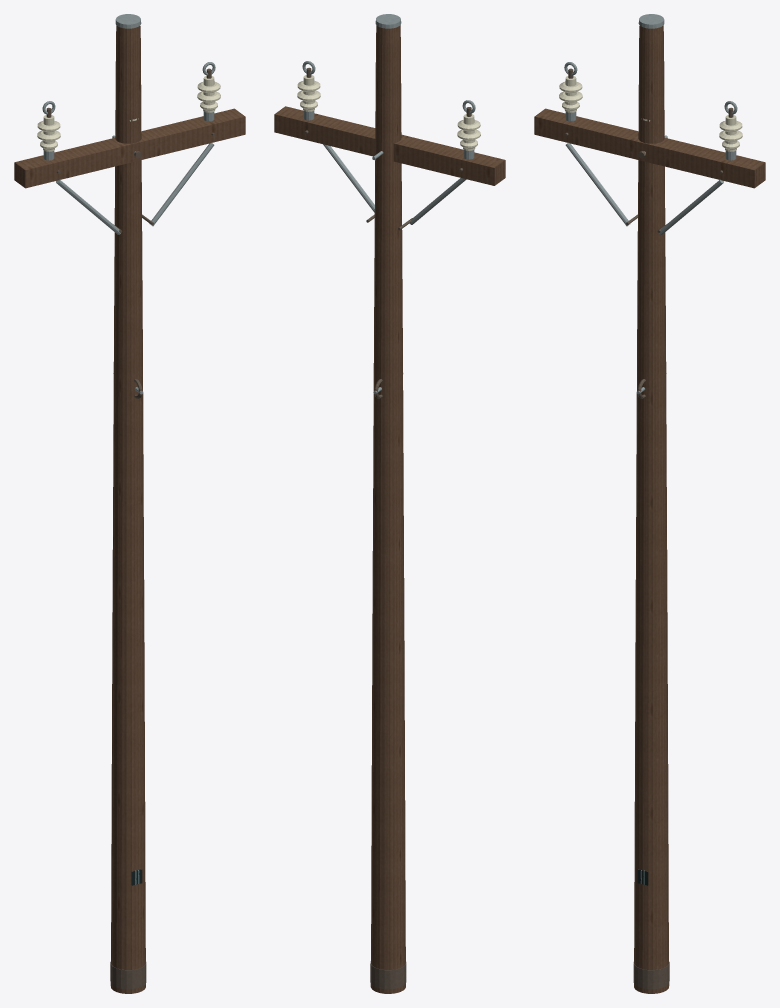
Rendered from PZ_Rural_Wooden_Utility_Pole_10m.glb.
3 views of the same model, side by side, from view 1: azimuth 30°, elevation 25°; view 2: azimuth 150°, elevation 25°; view 3: azimuth 330°, elevation 25° (orthographic).
Parts seen in each view (by area): view 1: RENDER__Round_Timber_Pole_Weathered, RENDER__Treated_Wooden_Crossarm_2m4, RENDER__Crossarm_Diagonal_Steel_Struts, RENDER__Groundline_Steel_Band, RENDER__Insulator_-0.88_CeramicStack, RENDER__Insulator_+0.88_CeramicStack; view 2: RENDER__Round_Timber_Pole_Weathered, RENDER__Treated_Wooden_Crossarm_2m4, RENDER__Crossarm_Diagonal_Steel_Struts, RENDER__Groundline_Steel_Band, RENDER__Insulator_+0.88_CeramicStack, RENDER__Insulator_-0.88_CeramicStack; view 3: RENDER__Round_Timber_Pole_Weathered, RENDER__Treated_Wooden_Crossarm_2m4, RENDER__Crossarm_Diagonal_Steel_Struts, RENDER__Groundline_Steel_Band, RENDER__Insulator_+0.88_CeramicStack, RENDER__Insulator_-0.88_CeramicStack.
Boxes of the visible parts, box(x1,y1,x2,y2) form: RENDER__Round_Timber_Pole_Weathered: box(110, 25, 145, 993); RENDER__Treated_Wooden_Crossarm_2m4: box(14, 108, 245, 188); RENDER__Crossarm_Diagonal_Steel_Struts: box(56, 142, 214, 234); RENDER__Groundline_Steel_Band: box(110, 961, 146, 989); RENDER__Insulator_-0.88_CeramicStack: box(37, 115, 60, 151); RENDER__Insulator_+0.88_CeramicStack: box(197, 76, 220, 112); RENDER__Round_Timber_Pole_Weathered: box(370, 25, 405, 993); RENDER__Treated_Wooden_Crossarm_2m4: box(274, 106, 505, 185); RENDER__Crossarm_Diagonal_Steel_Struts: box(323, 144, 466, 224); RENDER__Groundline_Steel_Band: box(370, 961, 406, 989); RENDER__Insulator_+0.88_CeramicStack: box(297, 75, 320, 111); RENDER__Insulator_-0.88_CeramicStack: box(457, 114, 480, 150); RENDER__Round_Timber_Pole_Weathered: box(634, 25, 669, 993); RENDER__Treated_Wooden_Crossarm_2m4: box(534, 108, 765, 188); RENDER__Crossarm_Diagonal_Steel_Struts: box(565, 142, 723, 234); RENDER__Groundline_Steel_Band: box(633, 961, 669, 989); RENDER__Insulator_+0.88_CeramicStack: box(719, 115, 742, 151); RENDER__Insulator_-0.88_CeramicStack: box(559, 76, 582, 112).
Bounding box in the file's own units: 2.42 × 10.16 × 0.535.
Materials: 5 (5 with a texture image).
